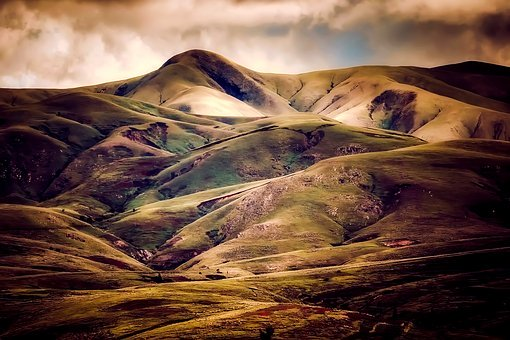mountain: (10, 67, 509, 340)
sky: (2, 2, 502, 63)
